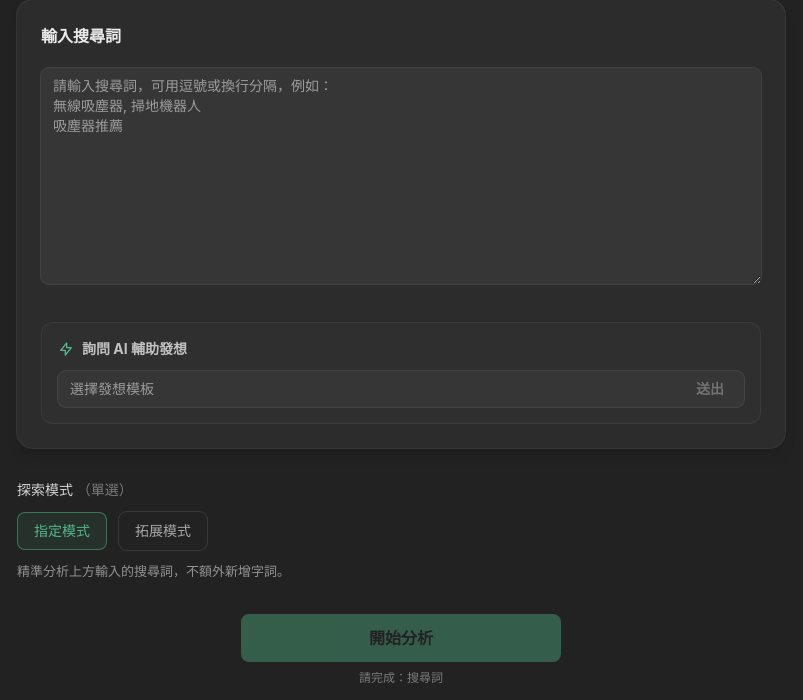
TC-13 · HomeRoute create-analysis form (seeds gate + inline errors) › disables the CTA until seeds are filled (geo/language come from settings)
Expected: the button "開始分析" is disabled, [241,614,561,662]
In the text box labelled "輸入搜尋詞": (401, 176) [41,68,761,284], type "running shoes"
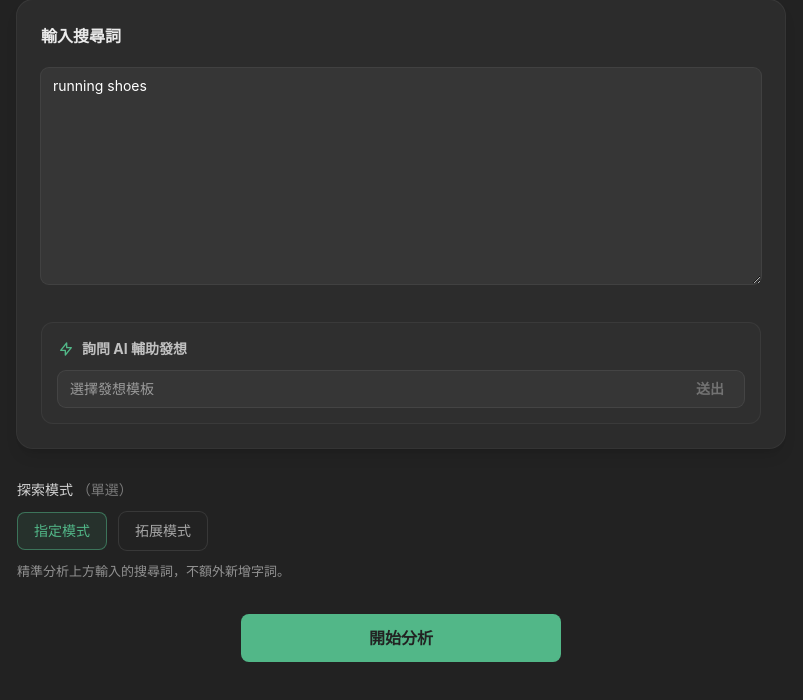
Expected: the button "開始分析" is enabled, [241,614,561,662]
